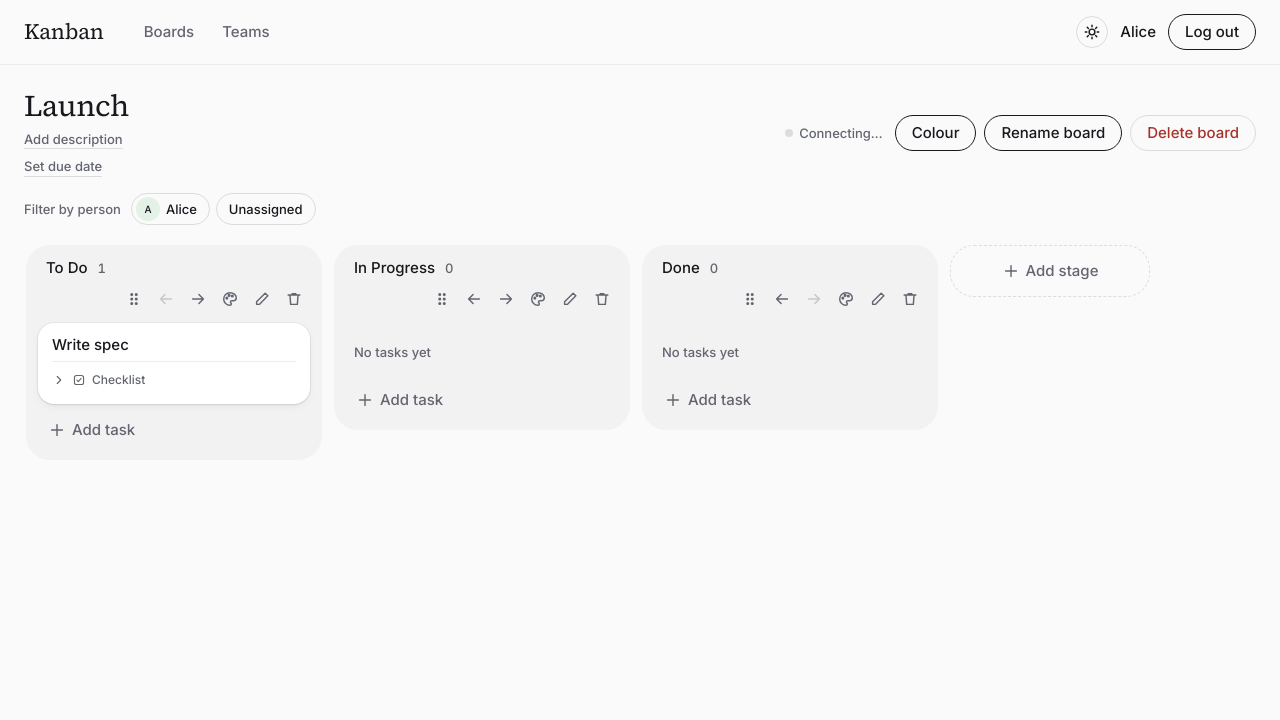
Scenario: task colours › offers none plus the seven palette colours
Step 1. Click the button with aria-label "open task write spec" → (90,344), box x1=52 y1=335 x2=129 y2=354
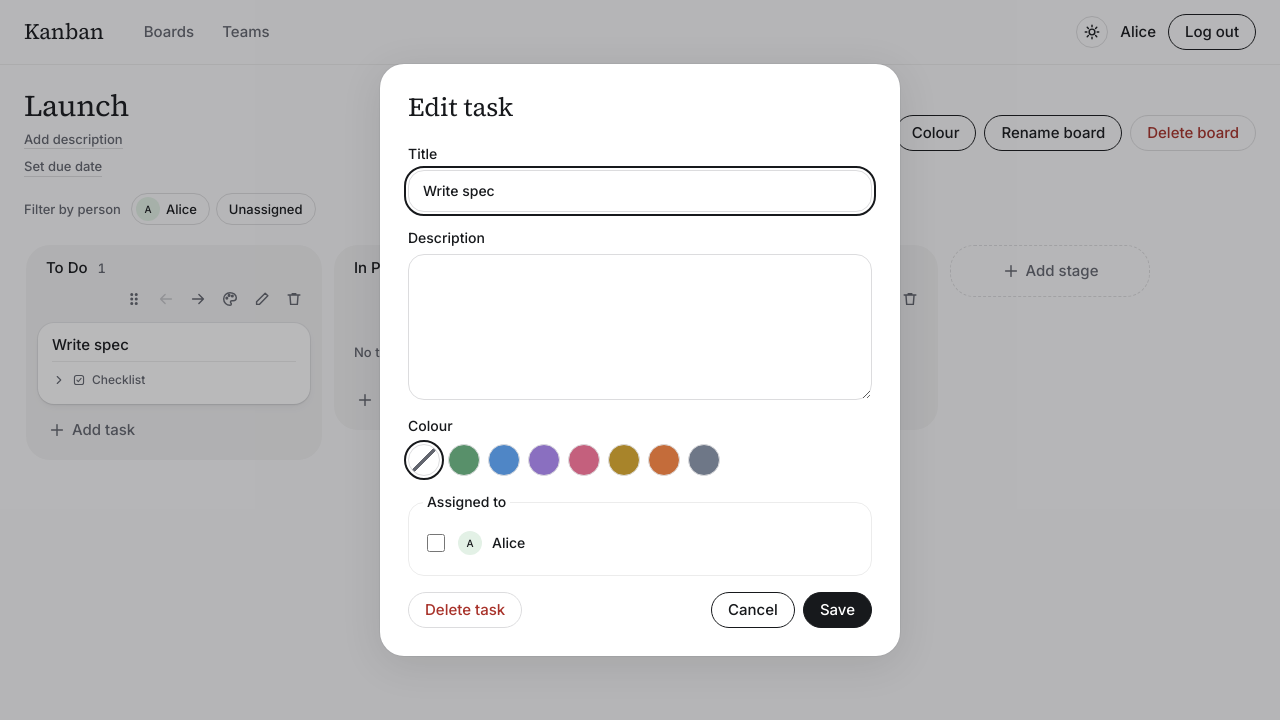
Now the radio button named "None" is checked, box x1=408 y1=444 x2=440 y2=476
